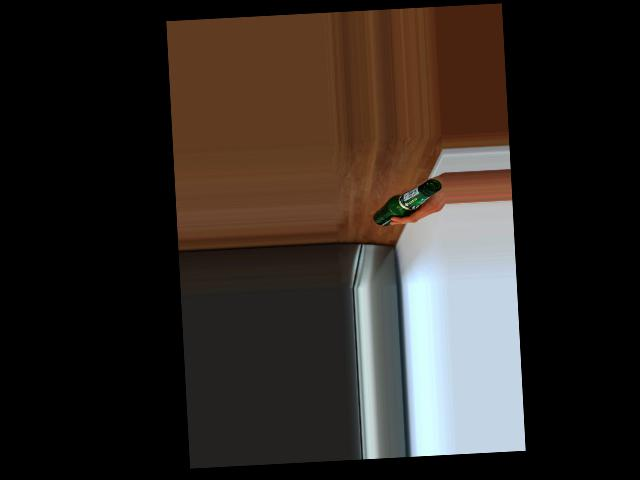beer: (371, 178, 443, 226)
